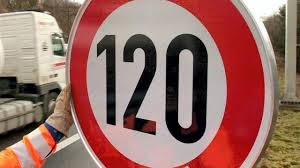Speed_limit_120km: (66, 1, 279, 168)
